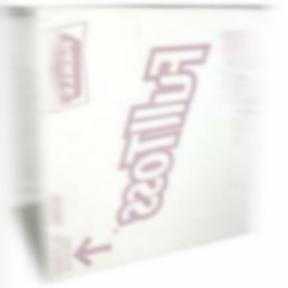box: (4, 0, 284, 285)
